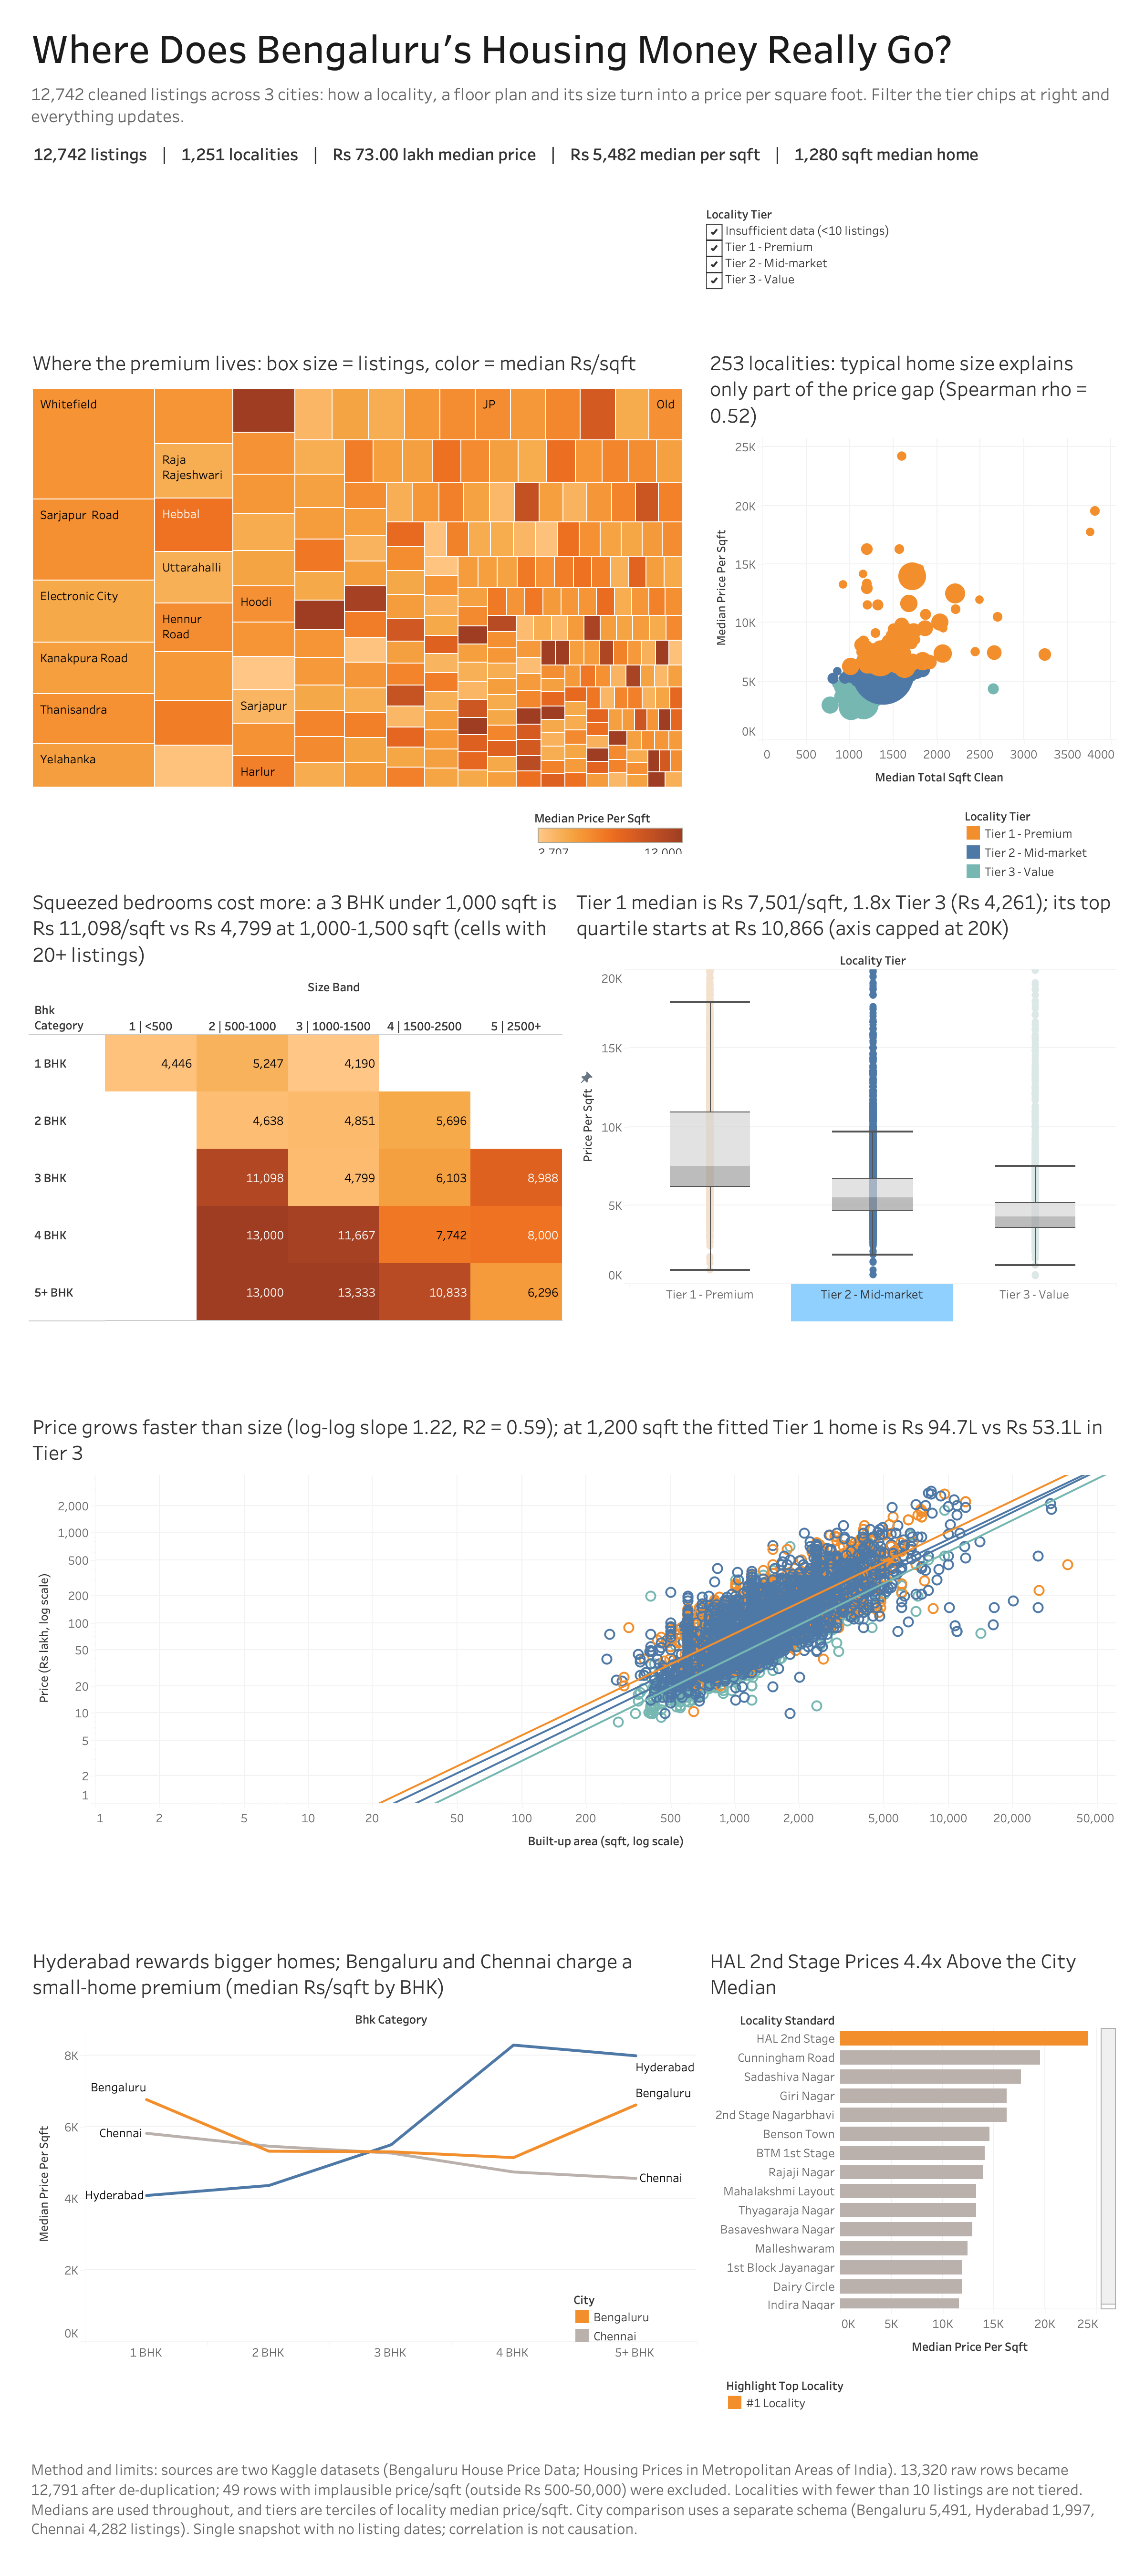

The page's visual inventory and layout, read from the dashboard file:
{"tool":"tableau","page":{"name":"Dashboard 5","canvas":[1200,2700],"ordinal":4},"visuals":[{"type":"text","box":[30,20,1140,60]},{"type":"text","box":[30,85,1140,50]},{"type":"worksheet","title":"S KPI","mark":"Automatic","box":[30,150,1140,50]},{"type":"filter","title":"Top Localities by PSF","param":"[federated.04rk4r30d1r5ml1bmzsqf1w5zfdu].[none:locality_tier:nk]","box":[740,215,430,130]},{"type":"worksheet","title":"S Treemap","mark":"Automatic","box":[30,360,700,470]},{"type":"worksheet","title":"S Bubble","mark":"Circle","rows":["price_per_sqft"],"cols":["total_sqft_clean"],"box":[740,360,430,470]},{"type":"legend","title":"S Treemap","param":"[federated.04rk4r30d1r5ml1bmzsqf1w5zfdu].[med:price_per_sqft:qk]","box":[560,845,160,50]},{"type":"legend","title":"S Bubble","param":"[federated.04rk4r30d1r5ml1bmzsqf1w5zfdu].[none:locality_tier:nk]","box":[1010,845,150,80]},{"type":"worksheet","title":"S Heatmap","mark":"Square","rows":["bhk_category"],"cols":["Calculation_0481014857805828"],"box":[30,925,560,460]},{"type":"worksheet","title":"S Boxplot","mark":"Circle","rows":["price_per_sqft"],"cols":["locality_tier"],"box":[600,925,570,460]},{"type":"worksheet","title":"S Scatter","mark":"Automatic","rows":["price_lakhs"],"cols":["total_sqft_clean"],"box":[30,1475,1140,470]},{"type":"worksheet","title":"S City Profile","mark":"Line","rows":["price_per_sqft"],"cols":["bhk_category"],"box":[30,2035,700,440]},{"type":"worksheet","title":"Top Localities by PSF","mark":"Automatic","rows":["locality_standard"],"cols":["price_per_sqft"],"box":[740,2035,430,440]},{"type":"legend","title":"S City Profile","param":"[federated.197ih9n1pnnh2k1h08h1h0k1m5vn].[none:city:nk]","box":[600,2400,110,60]},{"type":"legend","title":"Top Localities by PSF","param":"[federated.04rk4r30d1r5ml1bmzsqf1w5zfdu].[none:Calculation_0481014088024066:nk]","box":[760,2490,200,40]},{"type":"text","box":[30,2560,1140,120]}]}

Visuals, with their boxes in screenshot pixels (x1, y1, x2, y2), scaled from the page's 1200x2700 canvas onto the 1145x2576 screenshot:
text: region(29, 19, 1116, 76)
text: region(29, 81, 1116, 129)
"S KPI" worksheet: region(29, 143, 1116, 191)
"Top Localities by PSF" filter: region(706, 205, 1116, 329)
"S Treemap" worksheet: region(29, 343, 697, 792)
"S Bubble" worksheet (Circle marks): region(706, 343, 1116, 792)
"S Treemap" legend: region(534, 806, 687, 854)
"S Bubble" legend: region(964, 806, 1107, 883)
"S Heatmap" worksheet (Square marks): region(29, 883, 563, 1321)
"S Boxplot" worksheet (Circle marks): region(572, 883, 1116, 1321)
"S Scatter" worksheet: region(29, 1407, 1116, 1856)
"S City Profile" worksheet (Line marks): region(29, 1942, 697, 2361)
"Top Localities by PSF" worksheet: region(706, 1942, 1116, 2361)
"S City Profile" legend: region(572, 2290, 677, 2347)
"Top Localities by PSF" legend: region(725, 2376, 916, 2414)
text: region(29, 2442, 1116, 2557)
